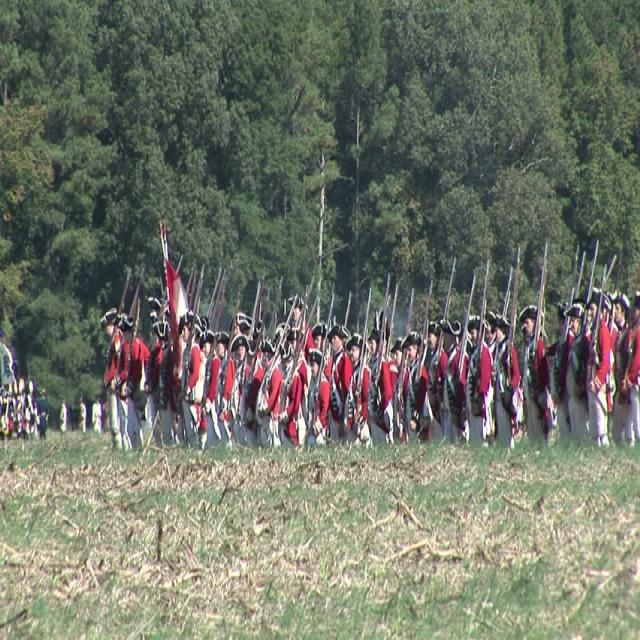body: (97, 288, 640, 368), (518, 304, 558, 444), (584, 287, 612, 449), (490, 314, 520, 454), (464, 312, 494, 449), (610, 290, 636, 446), (193, 327, 222, 457), (438, 317, 467, 447), (0, 340, 37, 441), (99, 306, 124, 454), (401, 332, 433, 447), (342, 332, 373, 449), (120, 313, 146, 452), (325, 323, 354, 444), (179, 316, 205, 448), (562, 303, 590, 425), (109, 312, 132, 459), (256, 338, 284, 450), (212, 329, 236, 459), (275, 340, 303, 449), (424, 323, 450, 440), (151, 320, 174, 452), (302, 348, 330, 448), (143, 310, 162, 454), (620, 290, 636, 446), (388, 339, 410, 445), (228, 333, 254, 416), (367, 326, 387, 426), (287, 295, 317, 361), (35, 385, 49, 447), (58, 397, 68, 452), (91, 393, 103, 438), (78, 394, 88, 434), (102, 387, 109, 436)
